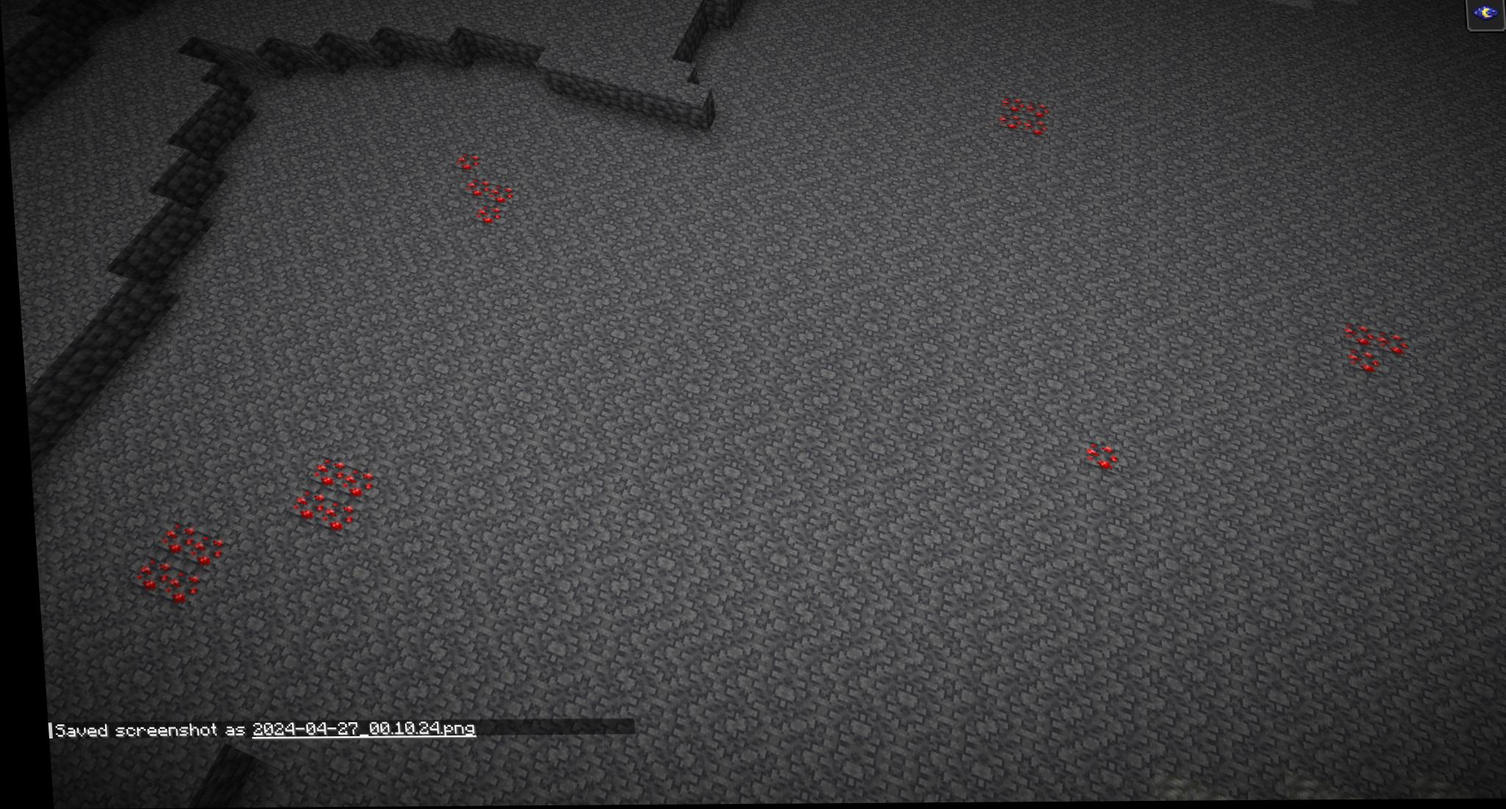redstone ore: (122, 524, 221, 603), (281, 454, 368, 537), (449, 149, 515, 229), (1338, 323, 1415, 387), (991, 93, 1053, 139), (1084, 440, 1114, 474)
